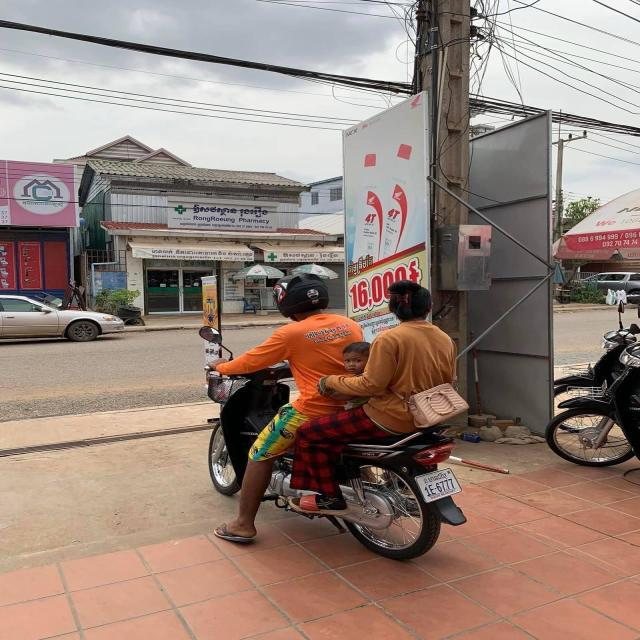Oudor_Meanchey: (423, 472, 446, 484)
